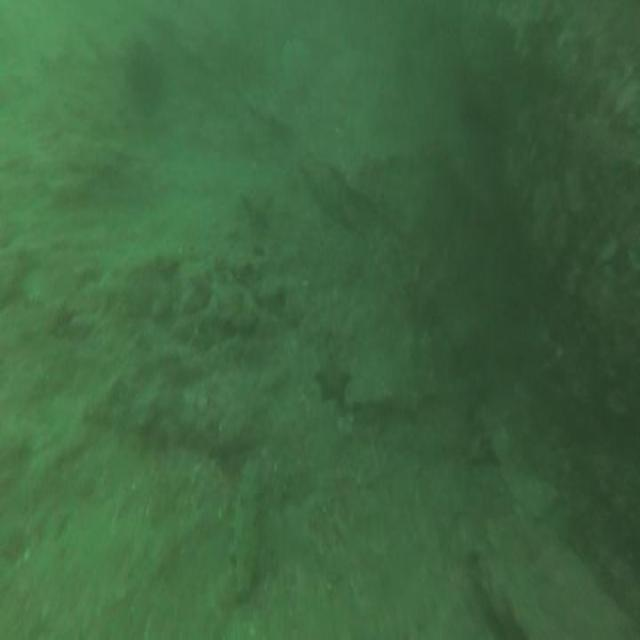echinus: (128, 38, 150, 84)
holothurian: (230, 462, 260, 598)
starfish: (318, 352, 349, 404), (242, 185, 272, 224)
